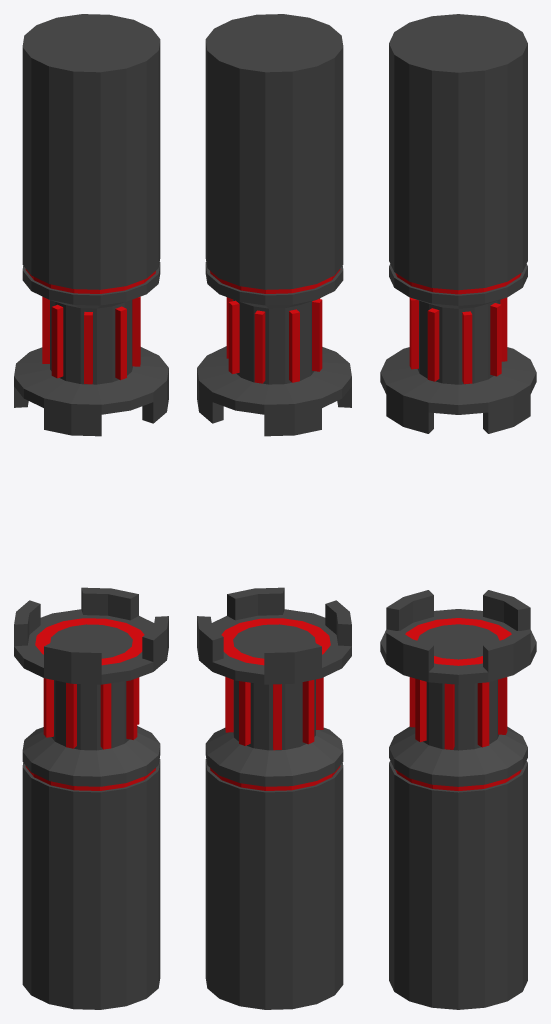
File: MothershipCorePillar.fbx
The picture shows the model from 3 angles, left to right: view 1: azimuth 30°, elevation 25°; view 2: azimuth 150°, elevation 25°; view 3: azimuth 270°, elevation 25°; orthographic projection.
Parts seen in each view (by area): view 1: Cylinder, Cylinder.001; view 2: Cylinder.001, Cylinder; view 3: Cylinder, Cylinder.001.
Boxes of the visible parts, box(x1,y1,x2,y2) form: Cylinder: box(14, 14, 168, 436); Cylinder.001: box(14, 587, 168, 1009); Cylinder.001: box(197, 587, 351, 1009); Cylinder: box(197, 14, 351, 436); Cylinder: box(380, 14, 536, 433); Cylinder.001: box(380, 590, 536, 1009).
Bounding box in the file's own units: 3.73 × 24.68 × 3.73.
